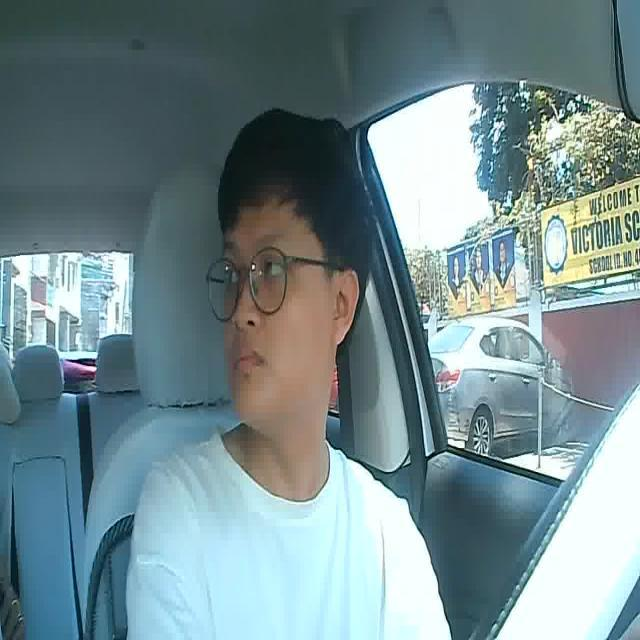Eye-Open: (261, 257, 284, 281), (224, 266, 240, 288)
Inattentive: (215, 119, 374, 426)
Normal: (232, 342, 265, 378)
